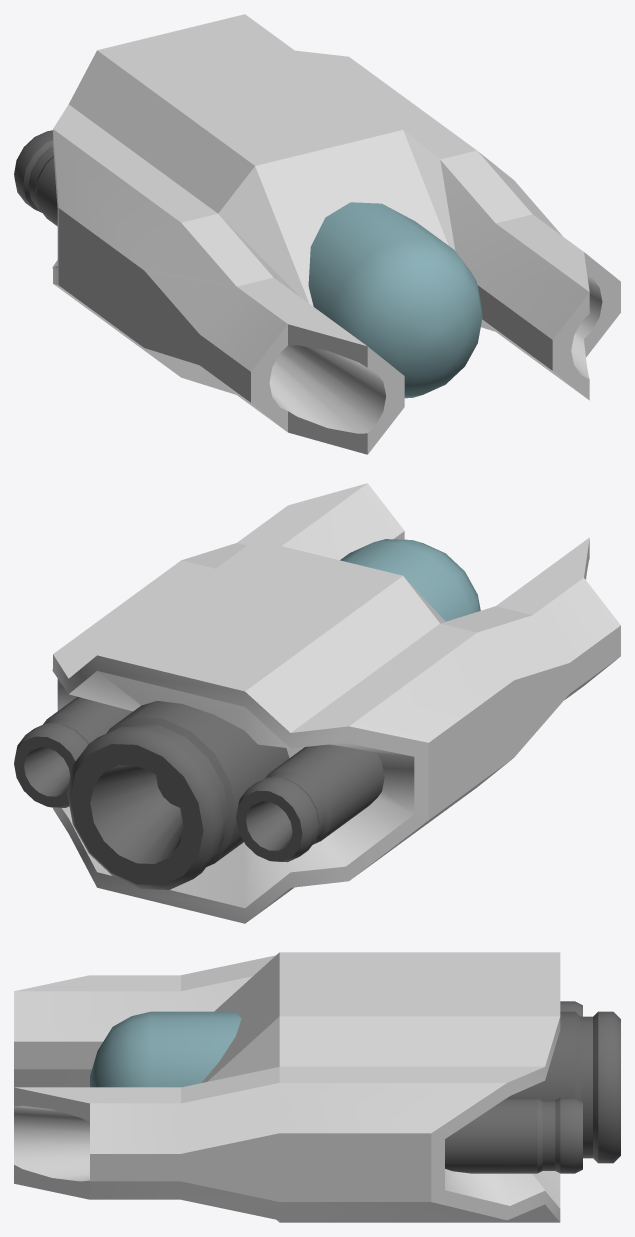
Rendered from StarFighterSmall.fbx.
The picture shows the model from 3 angles, top to bottom: view 1: azimuth 30°, elevation 25°; view 2: azimuth 150°, elevation 25°; view 3: azimuth 270°, elevation 25°; orthographic projection. The views are drawn at different scales.
Visible parts, largest first — view 1: Cylinder; view 2: Cylinder; view 3: Cylinder.
Boxes of the visible parts, x1,y1,x2,y2 form: Cylinder: (14,14,620,454); Cylinder: (14,483,620,923); Cylinder: (14,952,620,1222).
Bounding box in the file's own units: 5 × 3 × 8.
